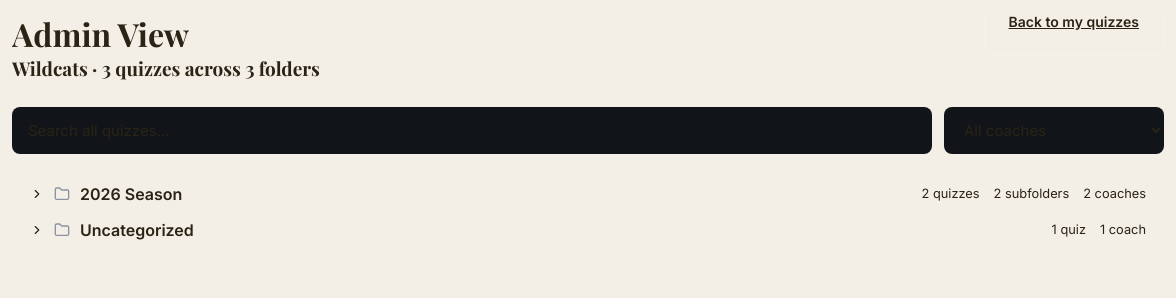
Test case: AdminQuizzesPage › puts a quiz with no folder in Uncategorized rather than losing it
The width and height of the screenshot is (1176, 298).
Click the text "Uncategorized".
click(137, 230)  # box [80,220,194,240]
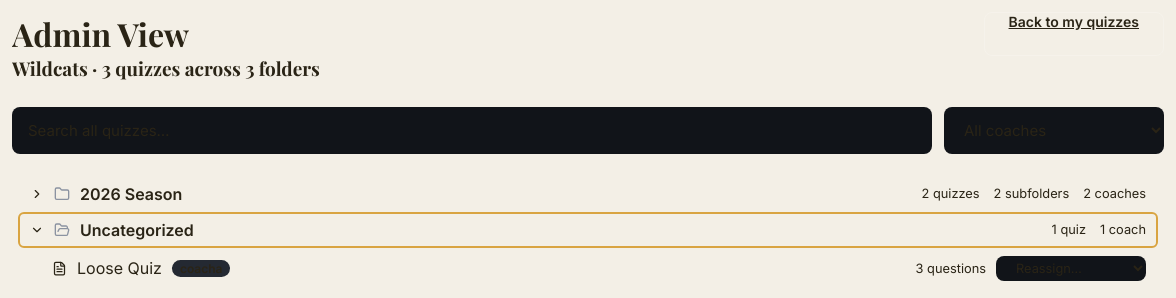
Check: the link "Loose Quiz" is shown, box [77,258,162,278]
